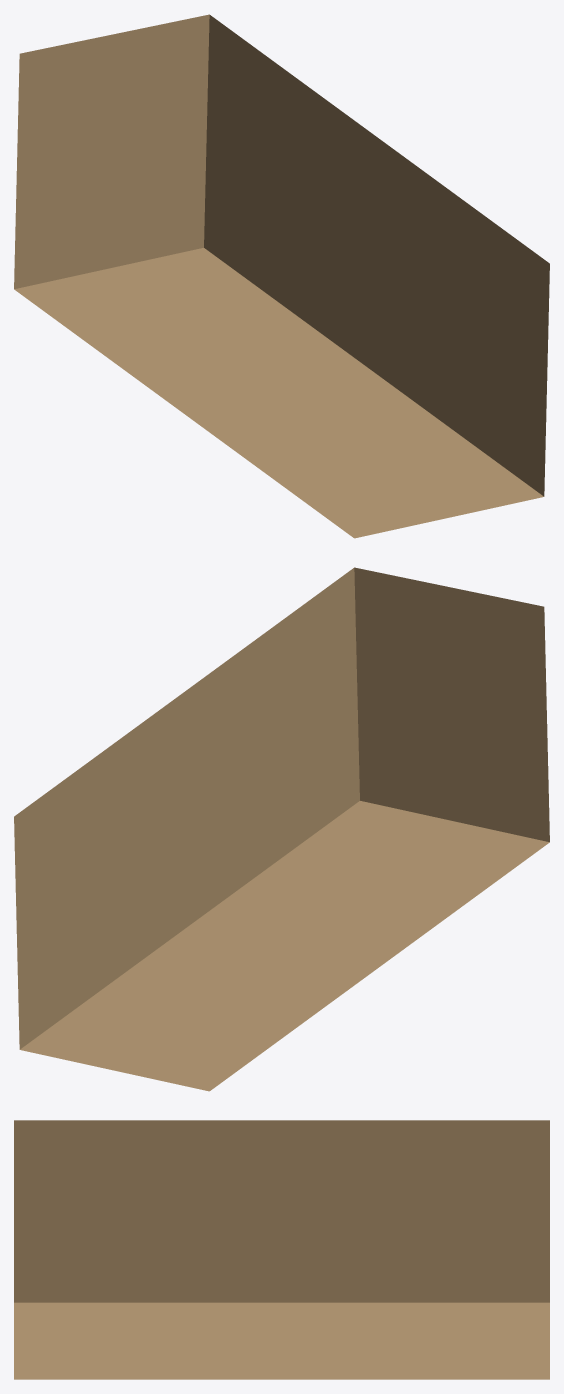
3 renders of one model, top to bottom at view 1: azimuth 30°, elevation 25°; view 2: azimuth 150°, elevation 25°; view 3: azimuth 270°, elevation 25°, orthographic. The views are drawn at different scales.
Parts seen in each view (by area): view 1: 0_2_1_3_0_0_2_3_0_2_0; view 2: 0_2_1_3_0_0_2_3_0_2_0; view 3: 0_2_1_3_0_0_2_3_0_2_0.
Part boxes in pixels (x1,y1,x2,y2): 0_2_1_3_0_0_2_3_0_2_0: [14, 14, 549, 538]; 0_2_1_3_0_0_2_3_0_2_0: [14, 567, 549, 1091]; 0_2_1_3_0_0_2_3_0_2_0: [14, 1120, 549, 1379].
Size of the model in its own units: 7.96 by 9.3 by 24.
